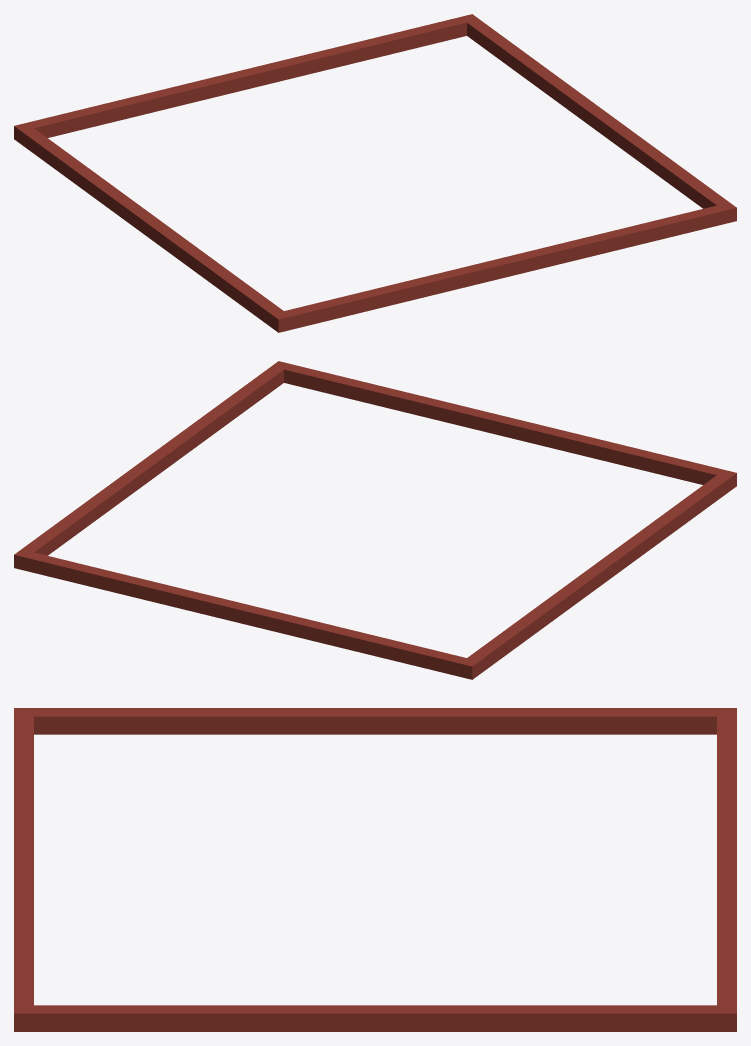
Rendered from Voxel_Square_Full.obj.
The picture shows the model from 3 angles, top to bottom: view 1: azimuth 30°, elevation 25°; view 2: azimuth 150°, elevation 25°; view 3: azimuth 270°, elevation 25°; orthographic projection. The views are drawn at different scales.
Size of the model in its own units: 3.6 by 0.1 by 3.6.
